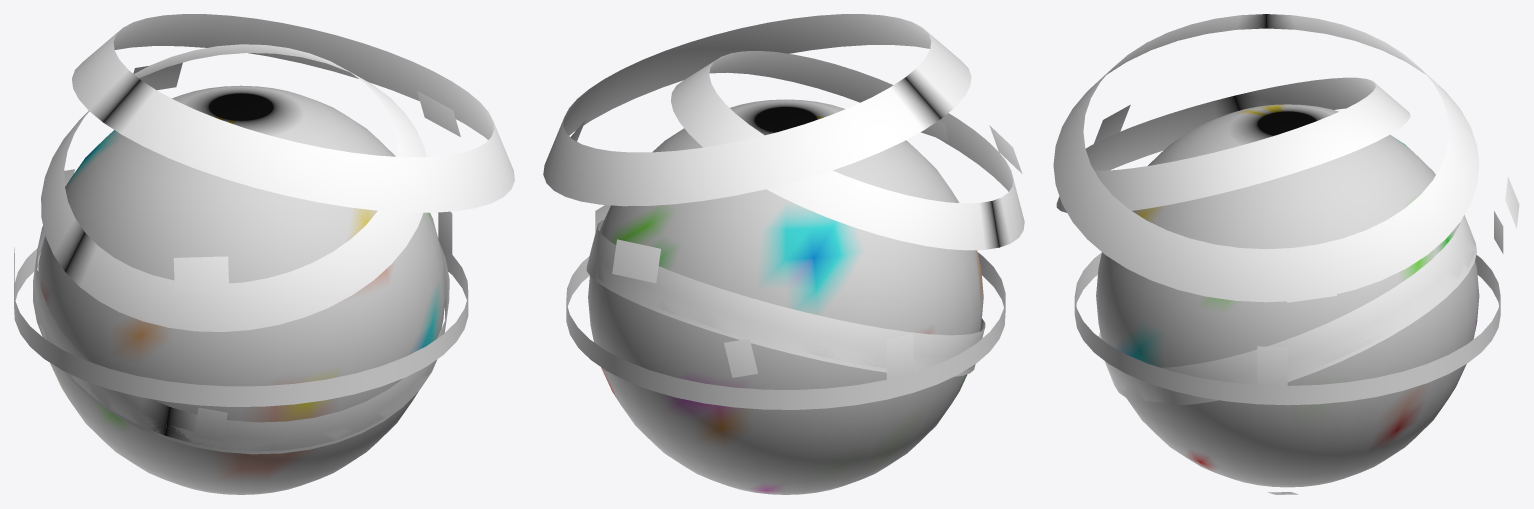
File: sky_hillside_secret.glb
3 views of the same model, side by side, from view 1: azimuth 30°, elevation 25°; view 2: azimuth 150°, elevation 25°; view 3: azimuth 270°, elevation 25° (orthographic). The views are drawn at different scales.
Visible parts, largest first — view 1: SkyMesh; view 2: SkyMesh; view 3: SkyMesh.
Part boxes in pixels (<box>): SkyMesh: <box>14,14,514,494</box>; SkyMesh: <box>543,14,1024,494</box>; SkyMesh: <box>1053,14,1519,494</box>.
Size of the model in its own units: 218072 by 208401 by 218842.
